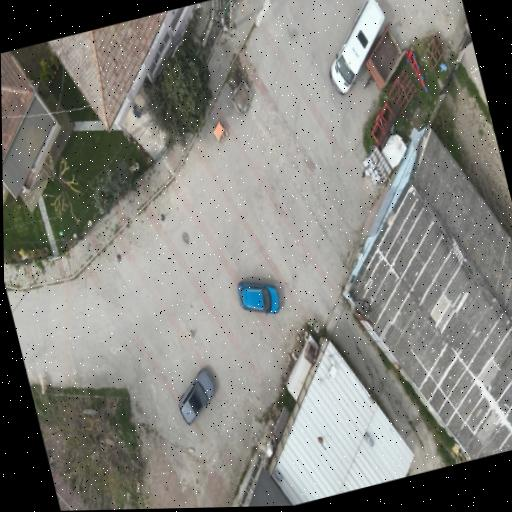car: (329, 0, 383, 93), (178, 369, 214, 424), (237, 281, 279, 313)
